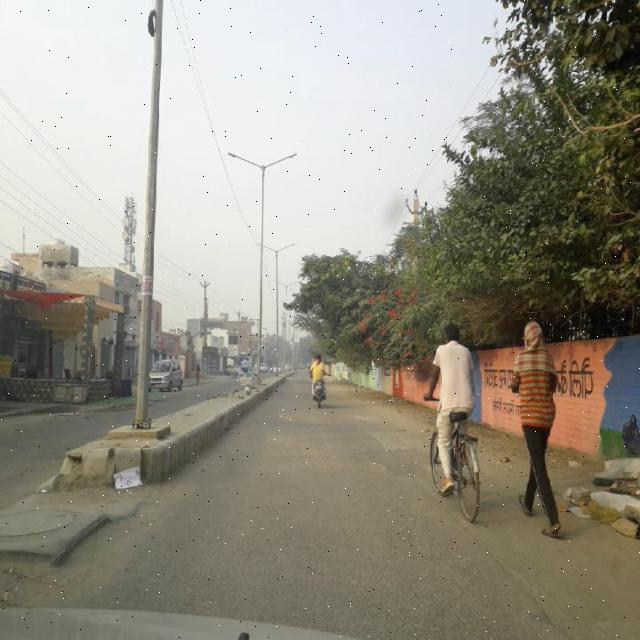D01: (473, 537, 565, 635)
